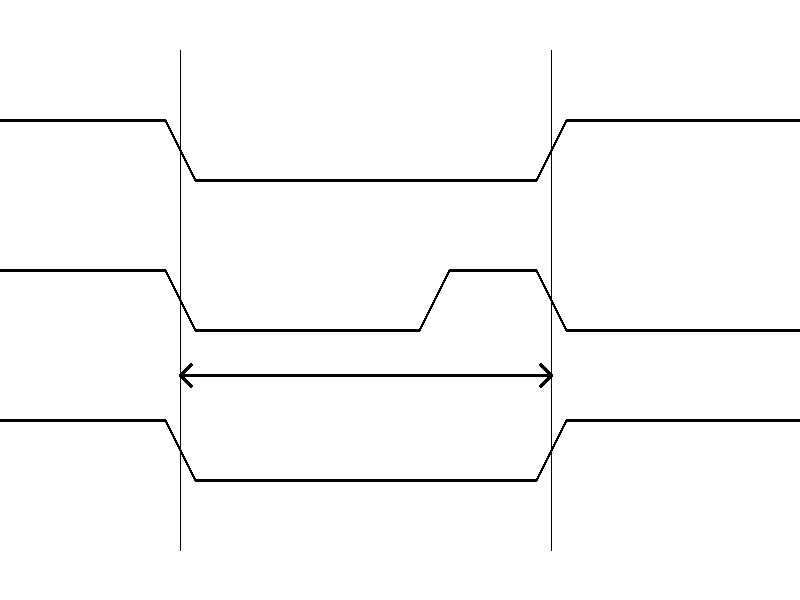double_arrow: (180, 360, 551, 390)
